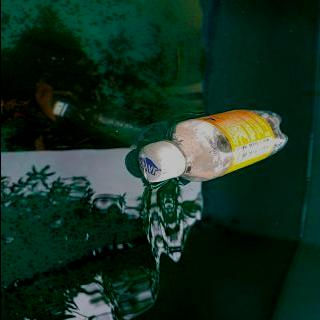bottle: (136, 109, 290, 184)
